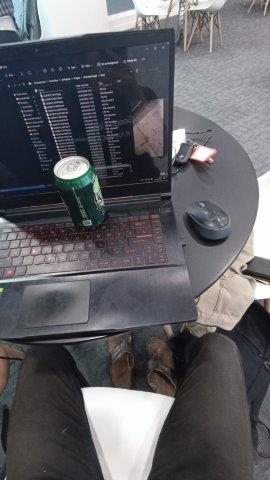kaleng: (52, 155, 105, 227)
